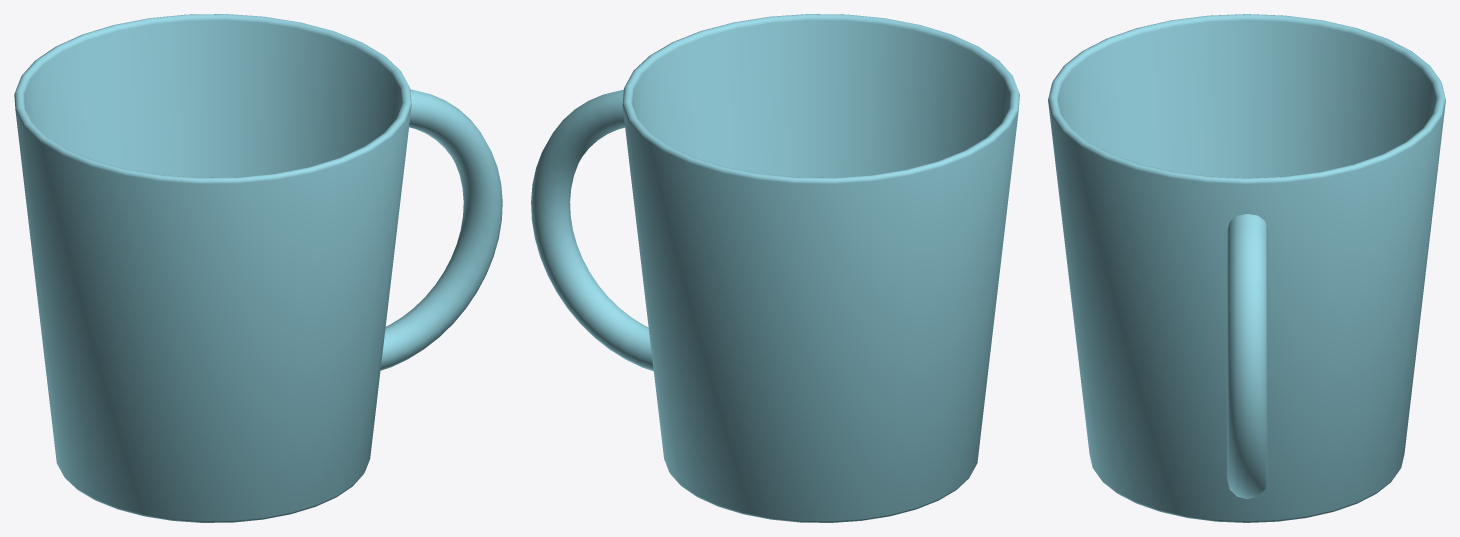
File: Mugcup.fbx
The picture shows the model from 3 angles, left to right: view 1: azimuth 30°, elevation 25°; view 2: azimuth 150°, elevation 25°; view 3: azimuth 270°, elevation 25°; orthographic projection.
Visible parts, largest first — view 1: Mugcup; view 2: Mugcup; view 3: Mugcup.
Boxes of the visible parts, x1=… form: Mugcup: x1=14, y1=14, x2=502, y2=522; Mugcup: x1=531, y1=14, x2=1019, y2=522; Mugcup: x1=1048, y1=14, x2=1445, y2=522.
Size of the model in its own units: 266 by 200 by 200.
